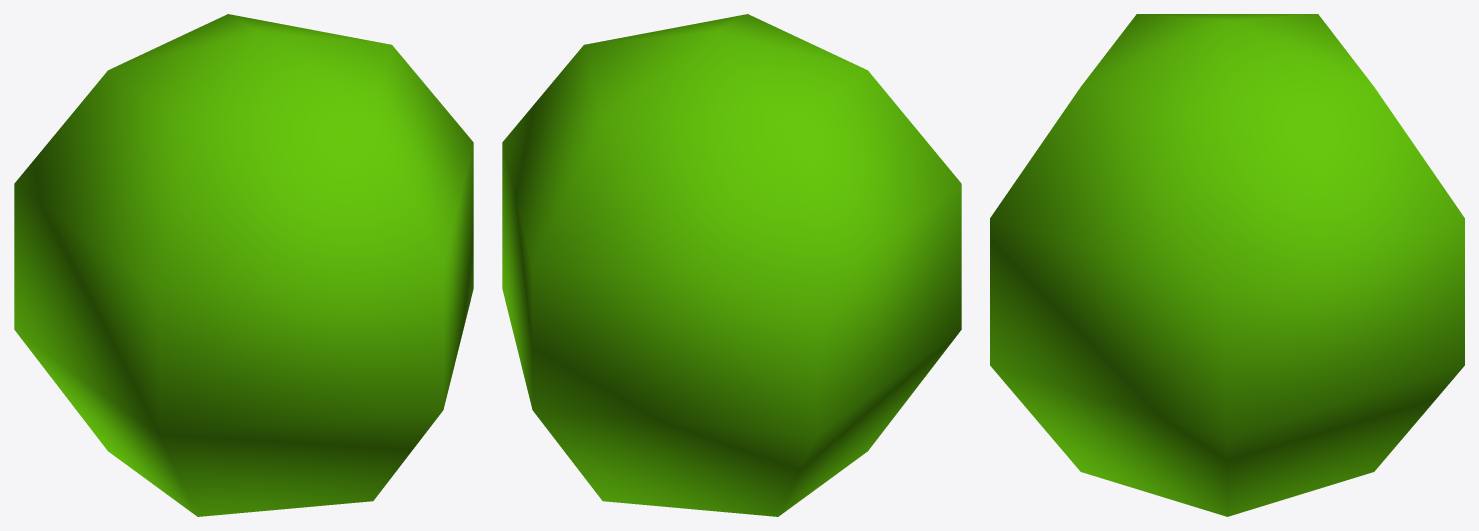
Rendered from Enemy_Updated_05_Ball.fbx.
3 renders of one model, left to right at view 1: azimuth 30°, elevation 25°; view 2: azimuth 150°, elevation 25°; view 3: azimuth 270°, elevation 25°, orthographic.
Parts seen in each view (by area): view 1: pSphere1; view 2: pSphere1; view 3: pSphere1.
Boxes of the visible parts, <box> form: pSphere1: <box>14,14,473,516</box>; pSphere1: <box>502,14,961,516</box>; pSphere1: <box>990,14,1464,516</box>.
Bounding box in the file's own units: 1.76 × 2.05 × 1.85.
